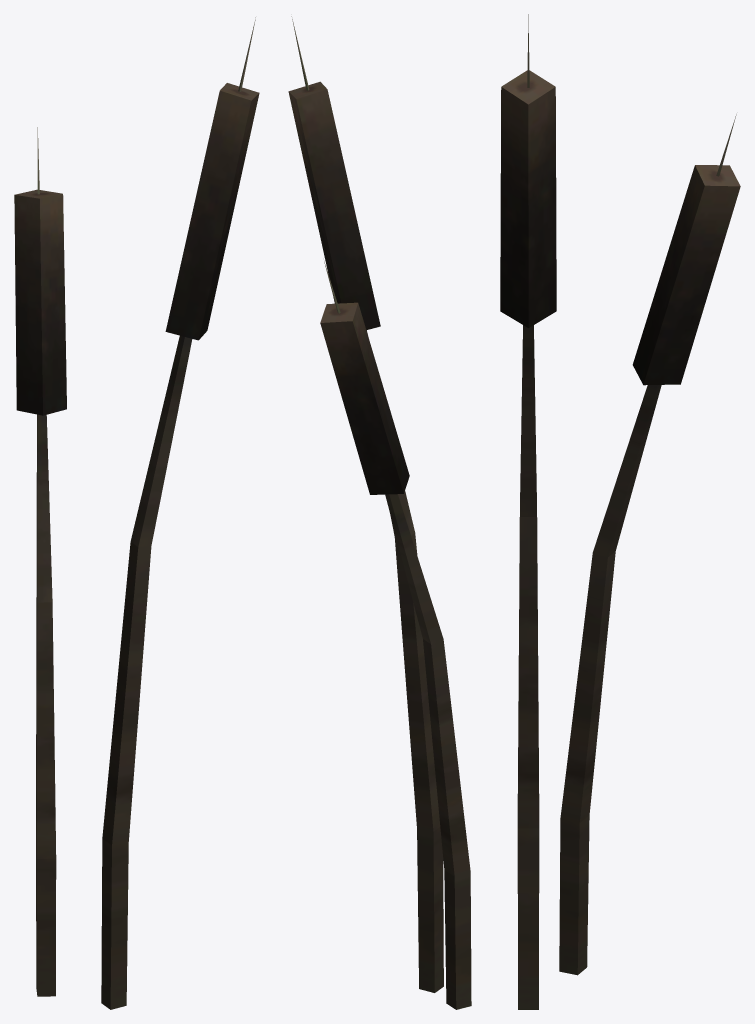
Rendered from cattail_02.fbx.
3 renders of one model, left to right at view 1: azimuth 30°, elevation 25°; view 2: azimuth 150°, elevation 25°; view 3: azimuth 270°, elevation 25°, orthographic. The views are drawn at different scales.
Parts seen in each view (by area): view 1: obj0.101; view 2: obj0.101; view 3: obj0.101.
Part boxes in pixels (x1,y1,x2,y2): obj0.101: (14, 17, 259, 1009); obj0.101: (288, 16, 471, 1009); obj0.101: (500, 14, 740, 1009).
Size of the model in its own units: 0.6987 by 3.13 by 0.6365.
